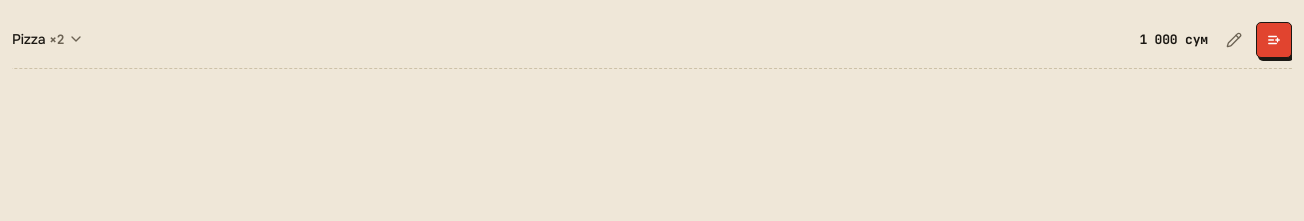
it: receipt positions › edits and deletes a whole line at once
The width and height of the screenshot is (1304, 221).
Later steps or results of the test are not shown.
Click the button named "Edit: Pizza ×2" at (1234, 40), box [1216,22,1252,58]
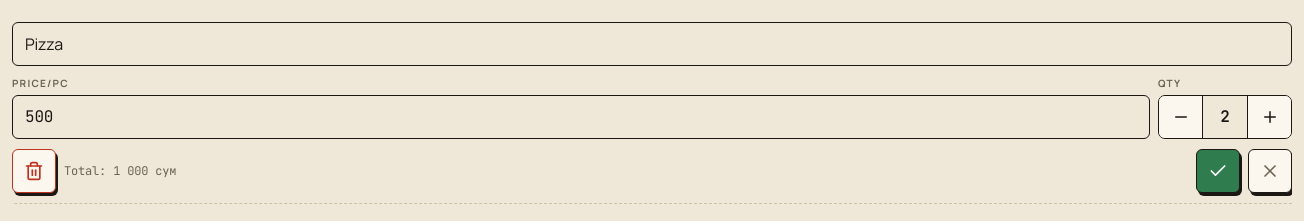
Now the field labelled "price/pc" holds "500"
Now the text "Total: 1 000 сум" is shown, box [64,163,176,179]
Replace the text in the field labelled "price/pc" with "600" at (581, 117), box [12,95,1150,139]
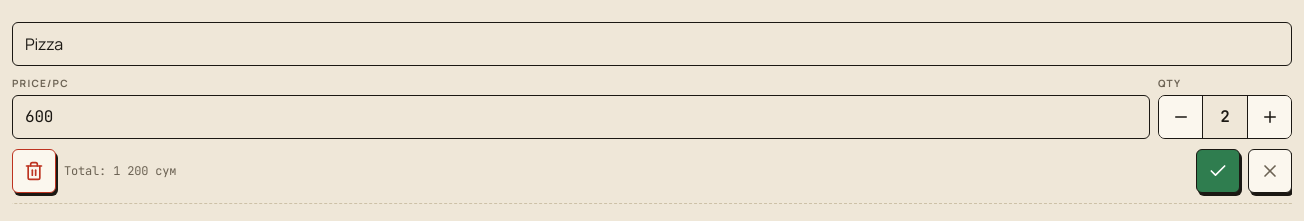
Click the button named "Save" at (1218, 171), box [1196,149,1240,193]
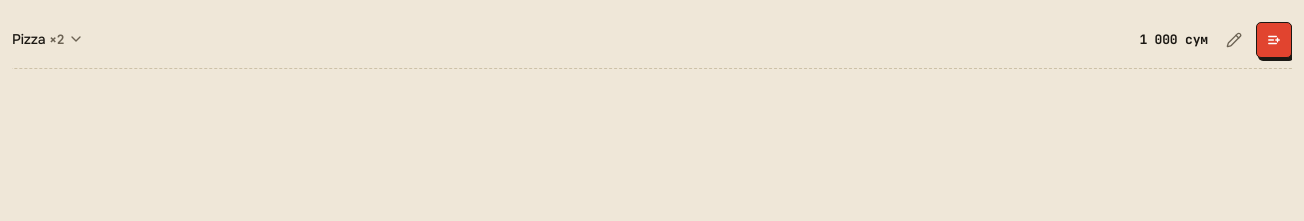
Now the button named "Edit: Pizza ×2" is shown, box [1216,22,1252,58]
